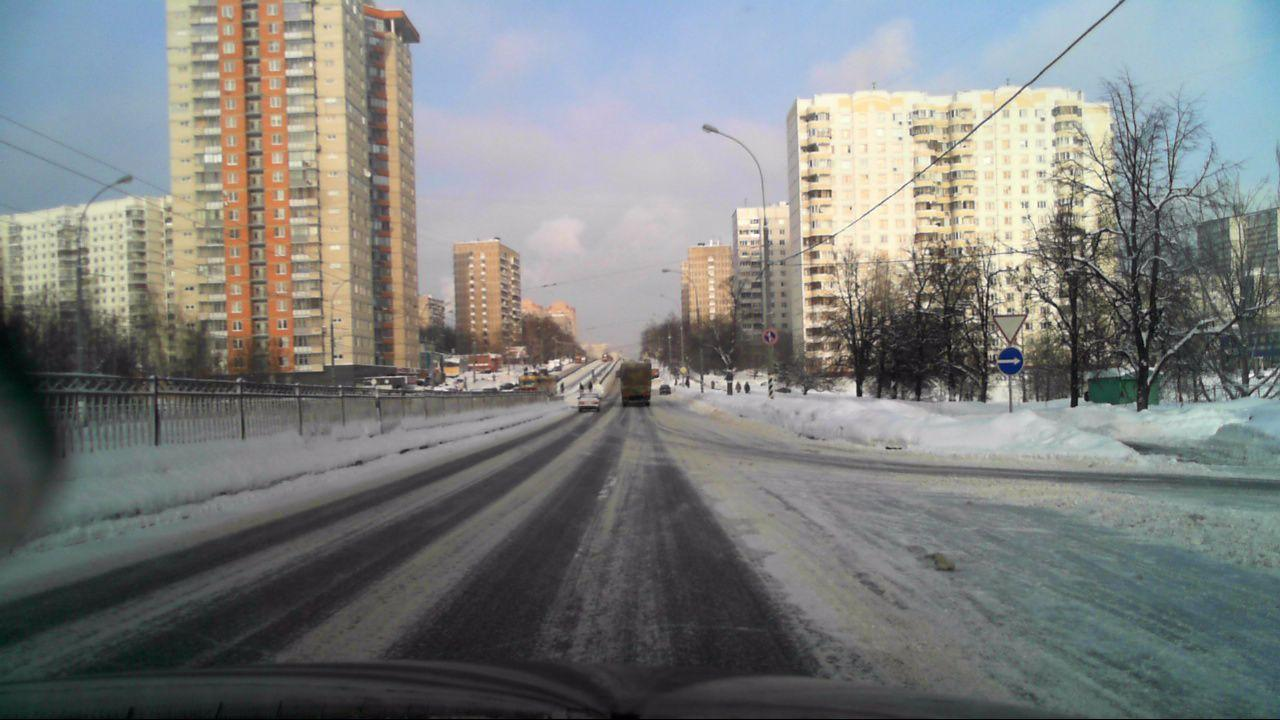2_4: (993, 313, 1028, 343)
3_29: (762, 328, 780, 346)
4_2_1: (995, 347, 1025, 377)
